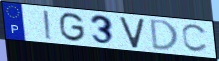3: (89, 14, 118, 47)
C: (180, 23, 209, 54)
D: (149, 18, 180, 51)
G: (58, 11, 87, 43)
I: (41, 9, 54, 41)
V: (118, 17, 146, 50)
